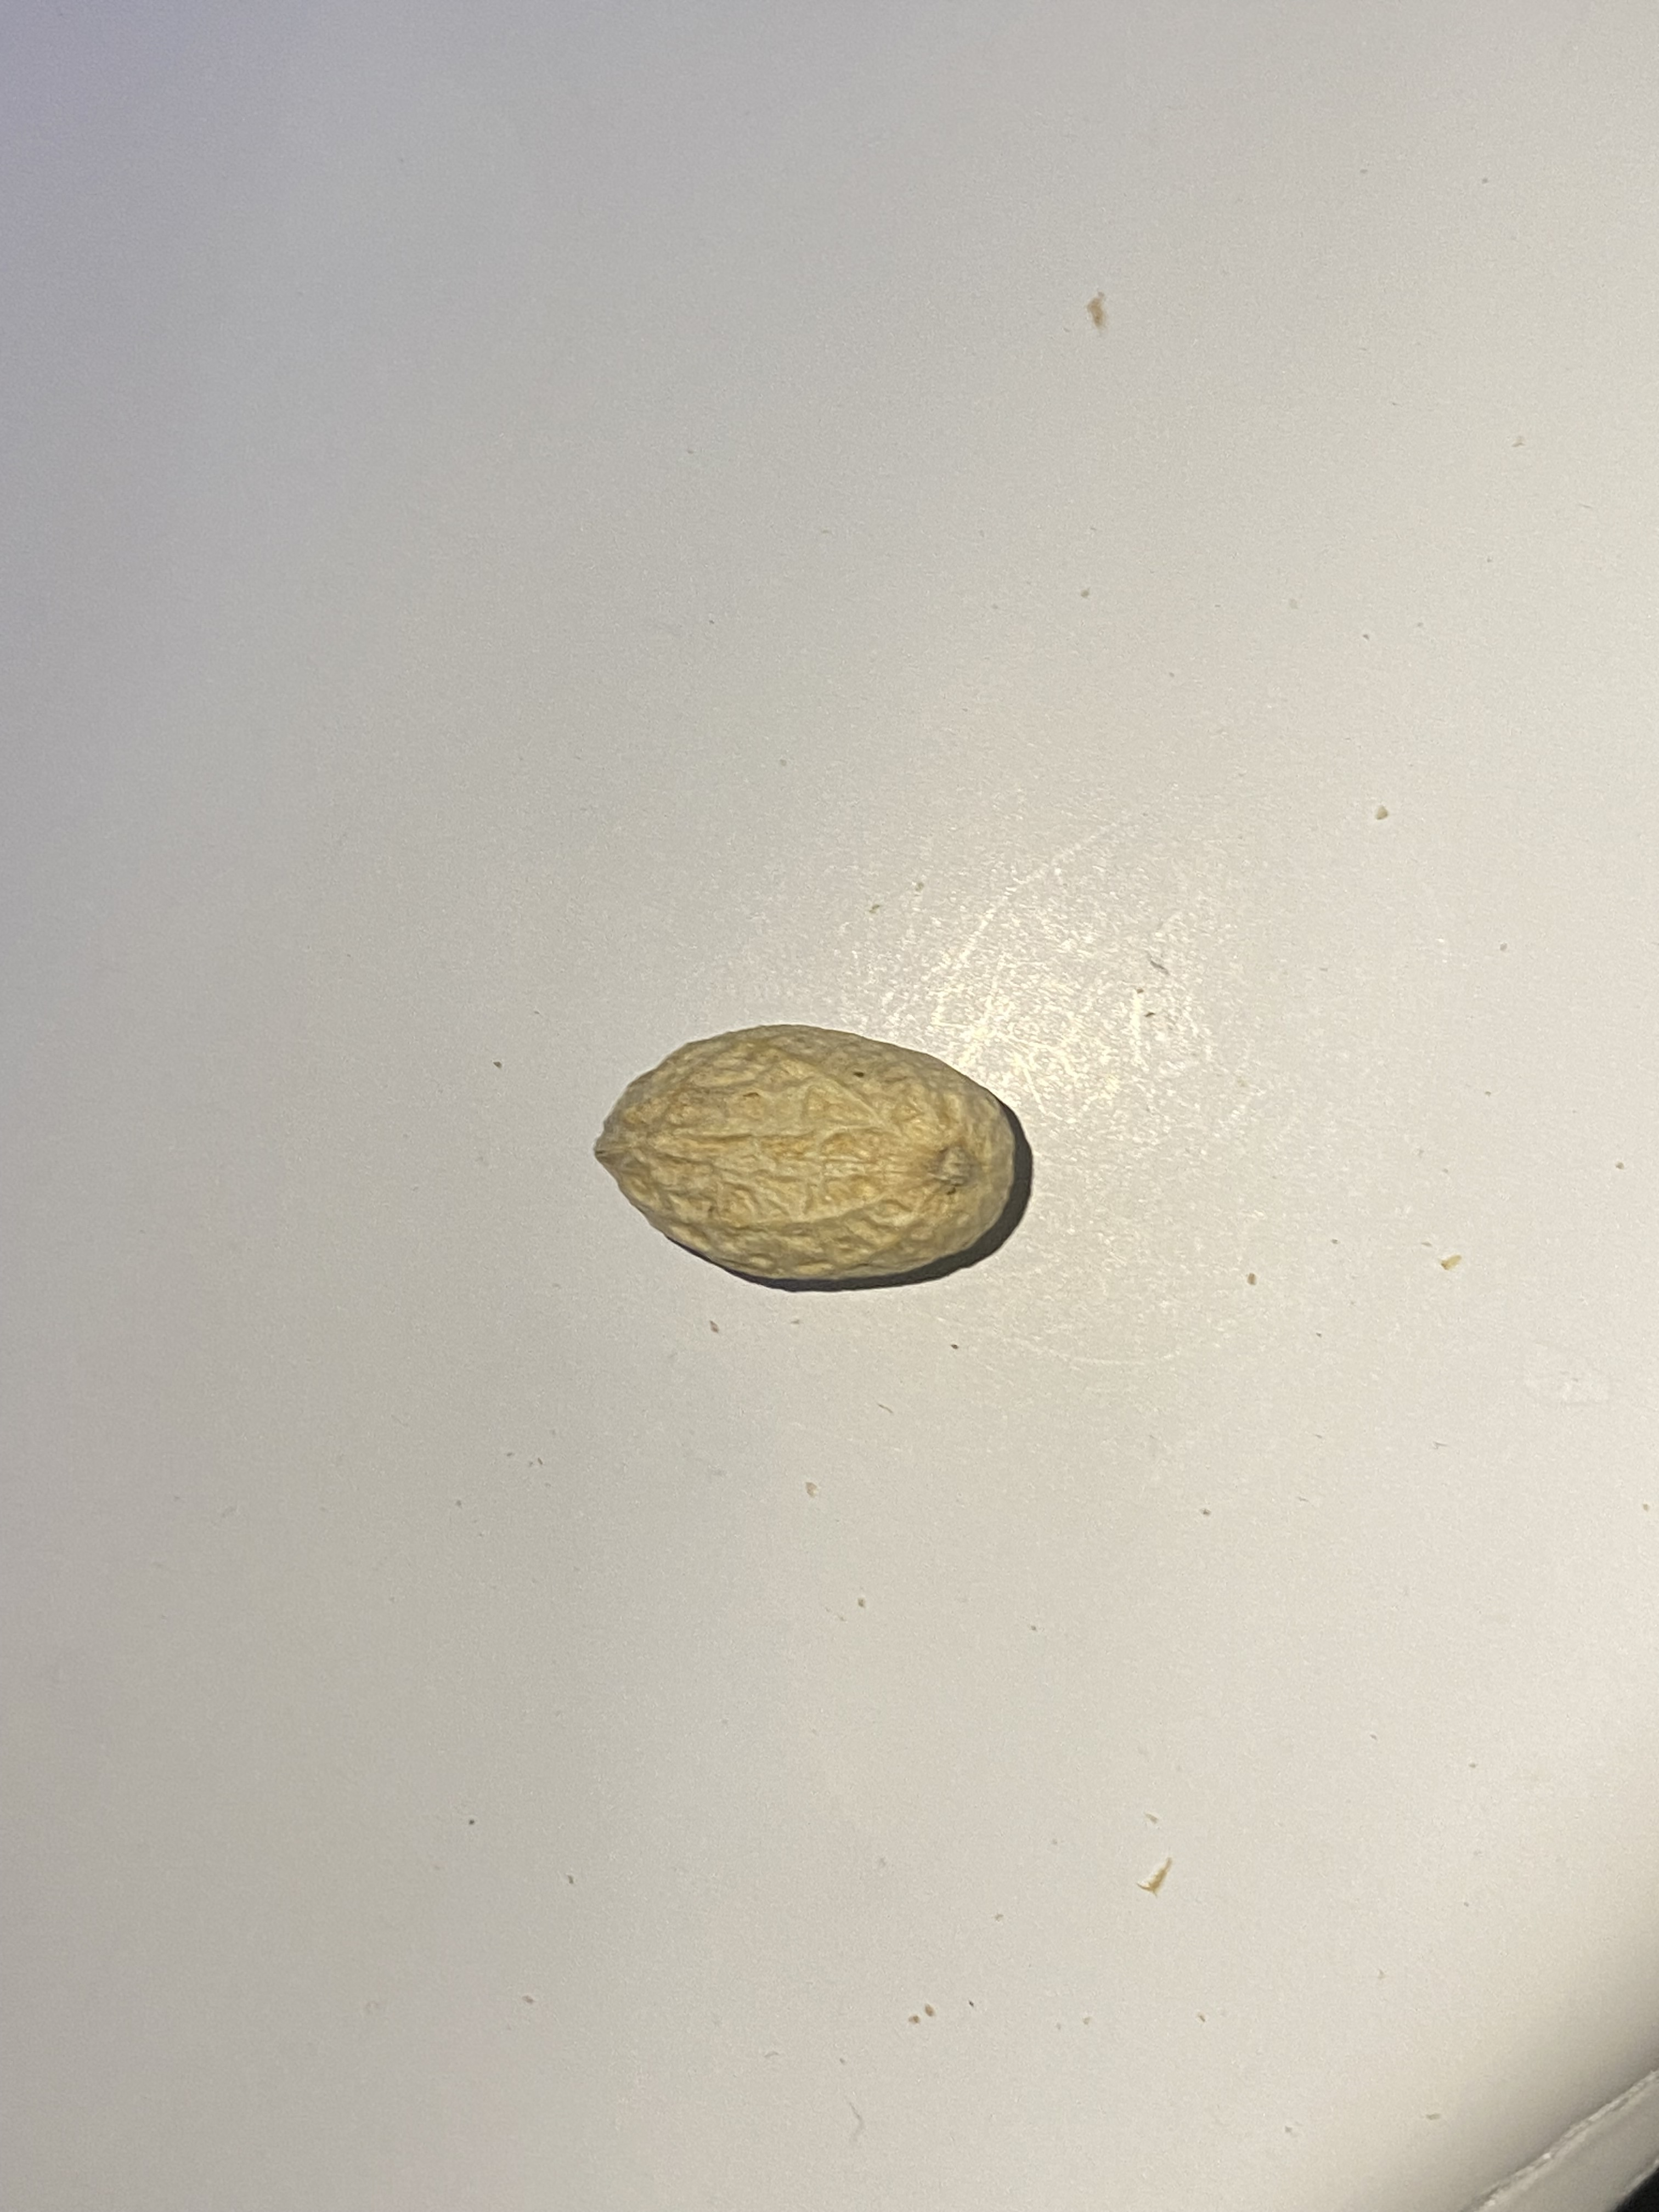kacang1: (554, 1007, 1075, 1308)
